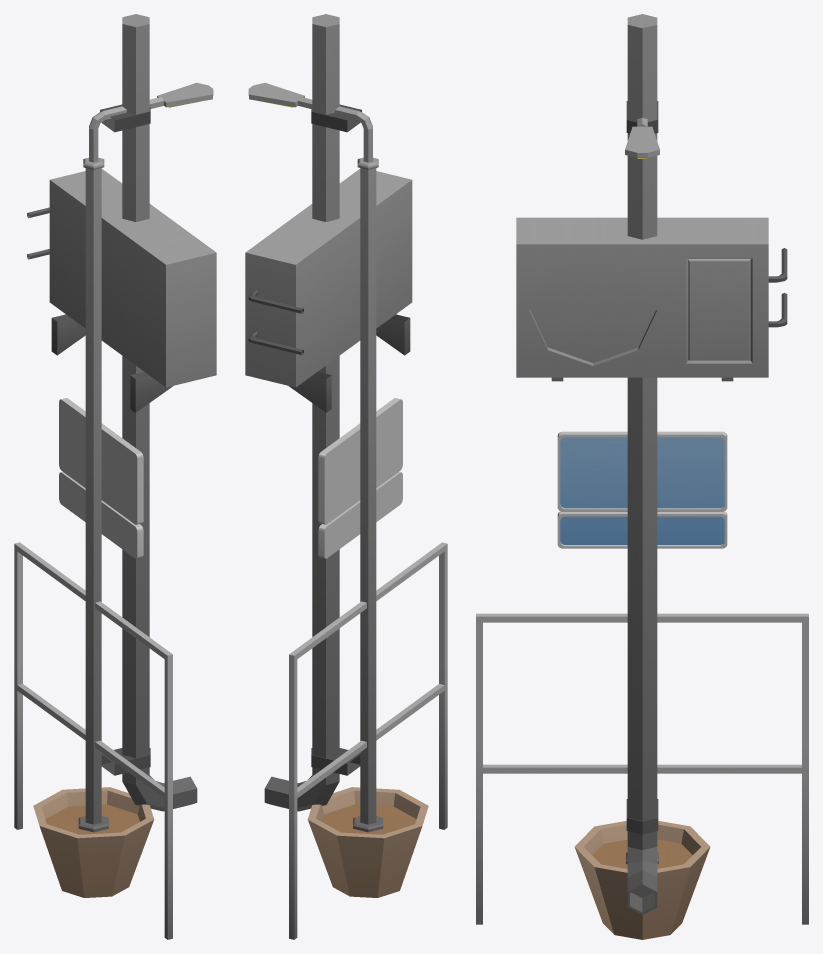
File: Exterior_Props (1).fbx
3 renders of one model, left to right at view 1: azimuth 30°, elevation 25°; view 2: azimuth 150°, elevation 25°; view 3: azimuth 270°, elevation 25°, orthographic. The views are drawn at different scales.
Parts seen in each view (by area): view 1: AC, Pipe, Street_Lamp, Flower_Pot, Fence, Road_Signs; view 2: AC, Pipe, Street_Lamp, Flower_Pot, Fence, Road_Signs; view 3: AC, Pipe, Road_Signs, Fence, Flower_Pot, Street_Lamp.
Boxes of the visible parts, bbox=[...] form: AC: bbox=[27, 169, 216, 412]; Pipe: bbox=[100, 14, 197, 811]; Street_Lamp: bbox=[78, 82, 213, 832]; Flower_Pot: bbox=[33, 787, 154, 897]; Fence: bbox=[14, 542, 172, 939]; Road_Signs: bbox=[59, 398, 143, 558]; AC: bbox=[245, 169, 412, 412]; Pipe: bbox=[264, 14, 361, 811]; Street_Lamp: bbox=[248, 82, 383, 832]; Flower_Pot: bbox=[307, 787, 428, 897]; Fence: bbox=[289, 542, 447, 939]; Road_Signs: bbox=[318, 398, 402, 558]; AC: bbox=[516, 217, 787, 381]; Pipe: bbox=[626, 14, 658, 914]; Road_Signs: bbox=[557, 431, 727, 548]; Fence: bbox=[476, 613, 808, 924]; Flower_Pot: bbox=[574, 821, 710, 939]; Street_Lamp: bbox=[625, 117, 659, 864].
Size of the model in its own units: 63.18 by 300 by 97.88.
